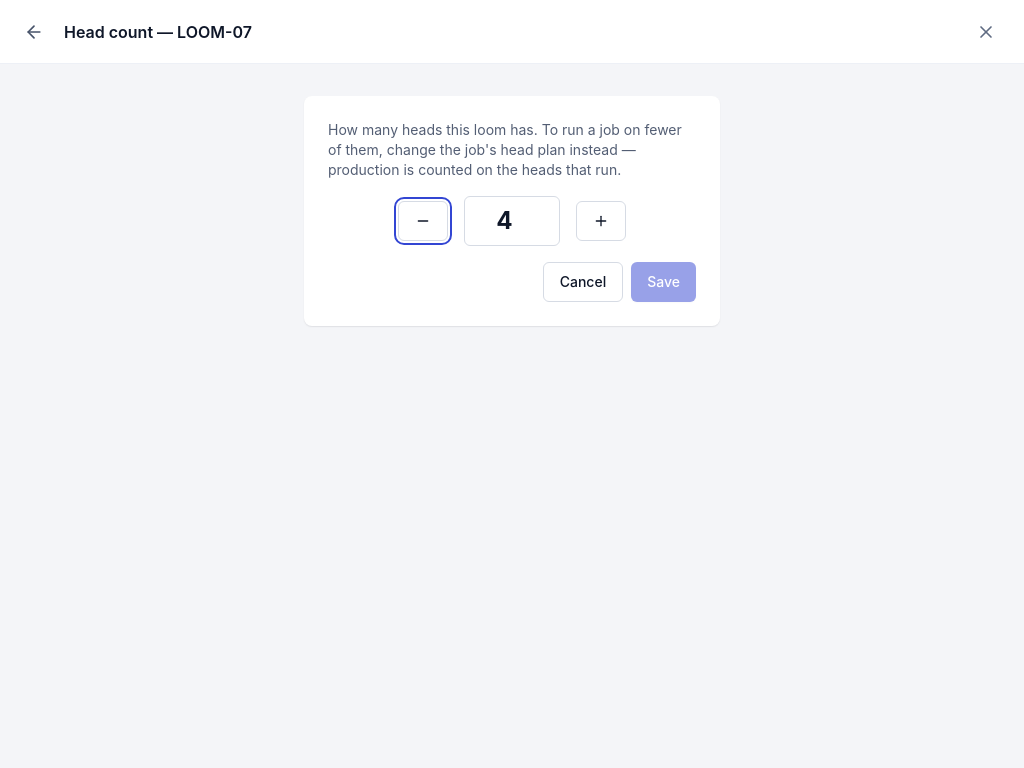
Test: MachineHeadCountModal › keeps a server refusal on screen, in the server's own words
The width and height of the screenshot is (1024, 768).
Step 1. Click the button named "one more head" → point(601, 221), box [576,201,626,241]
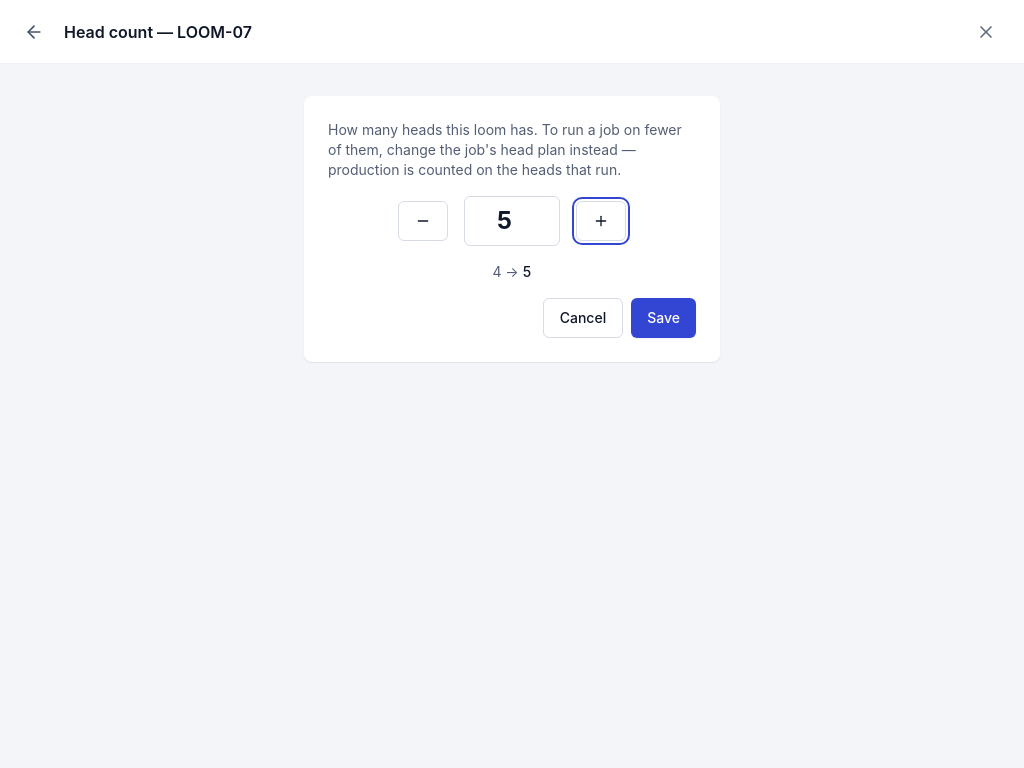
Step 2. Click the button "Save" → point(664, 318), box [631,298,696,338]
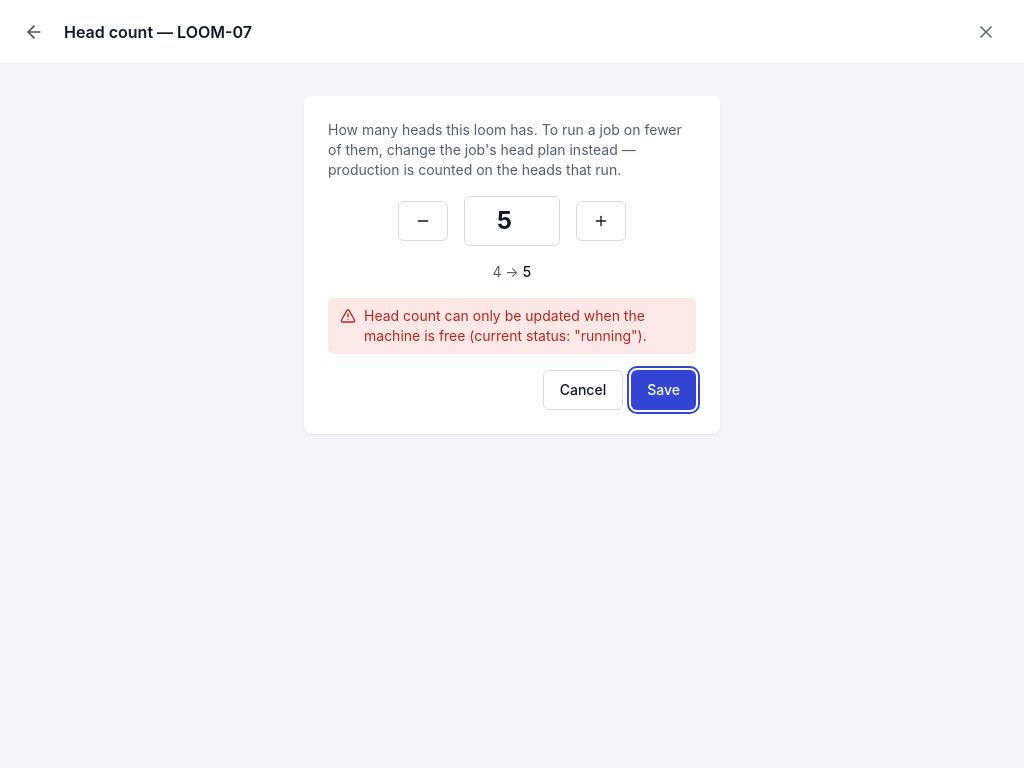
Result: the message shows "only be updated when the machine is free" at [364,307,647,344]
Result: the message shows "running" at [364,307,647,344]
